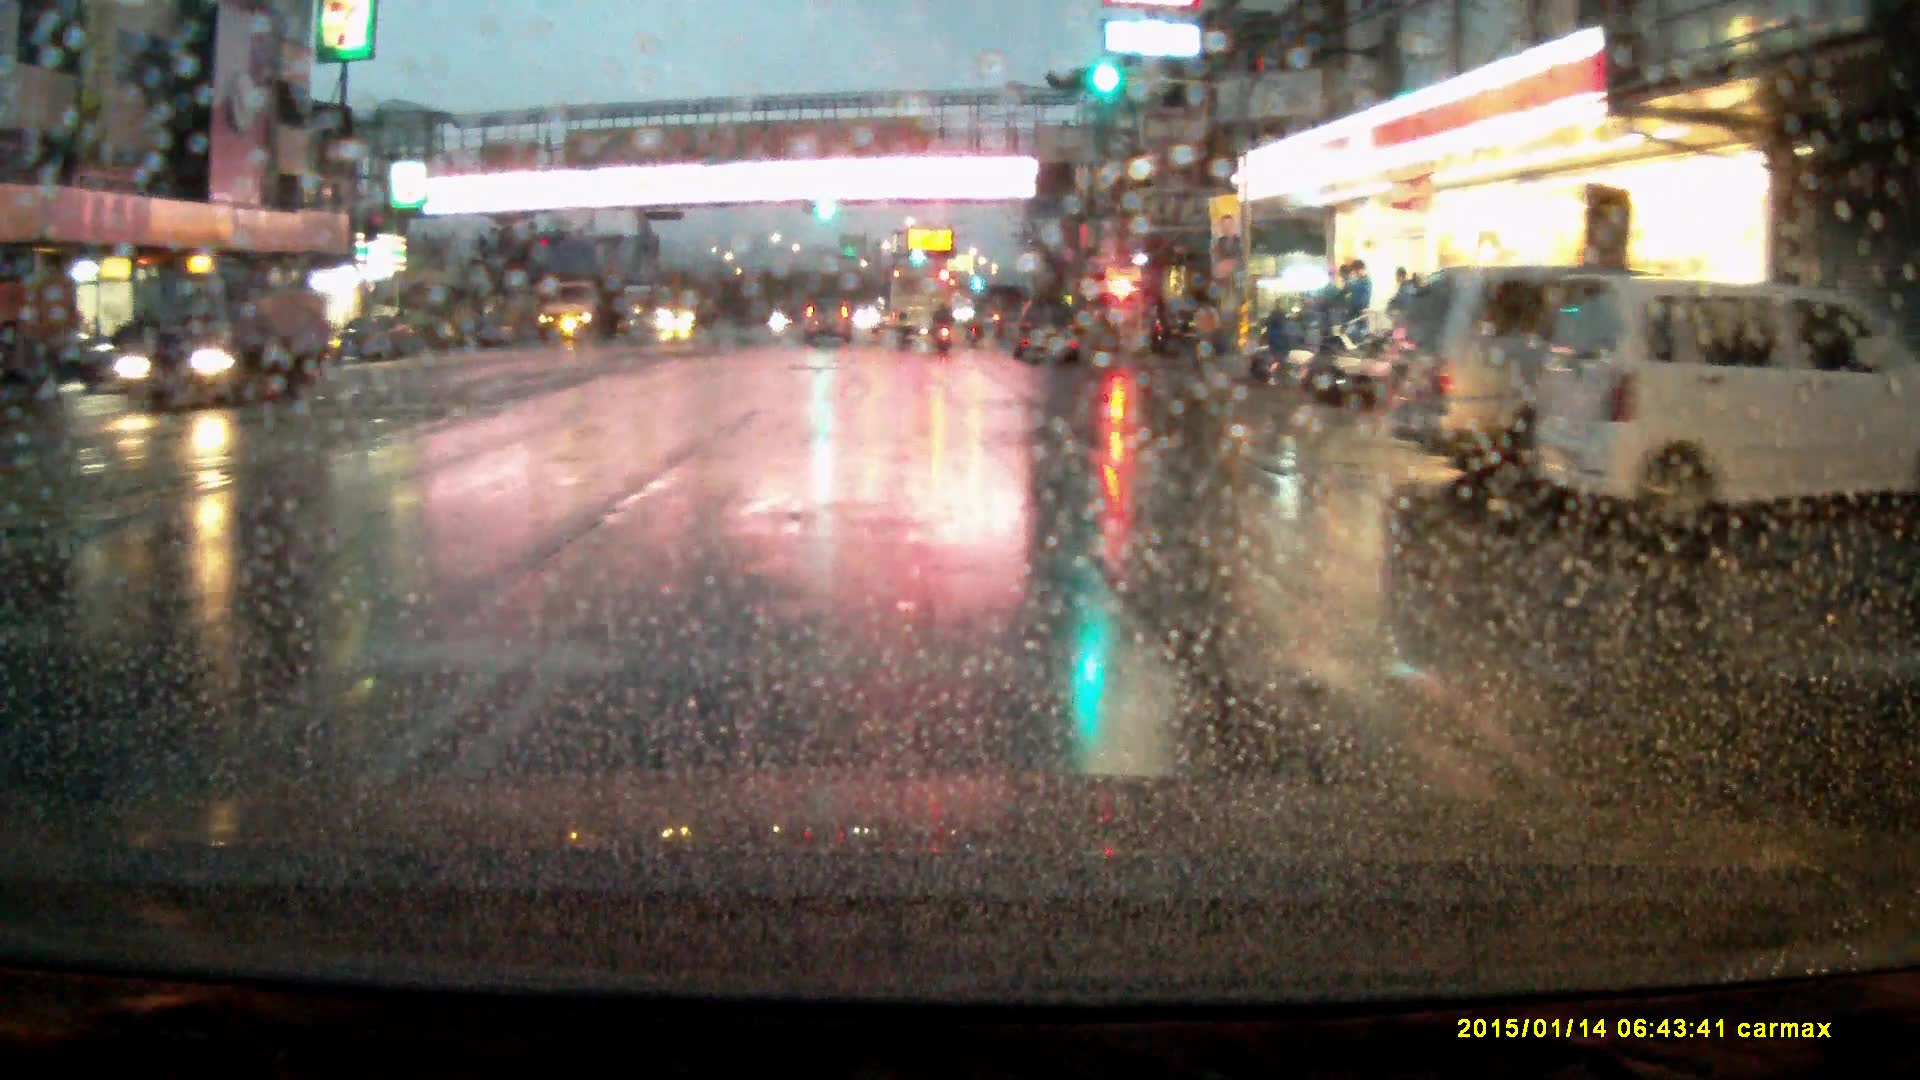rider: (935, 301, 958, 354)
vehicle: (1537, 271, 1895, 541), (1384, 263, 1735, 491), (94, 261, 321, 417), (1012, 290, 1082, 364), (891, 265, 956, 343), (541, 281, 620, 343), (1144, 296, 1224, 355), (664, 280, 721, 330), (800, 297, 855, 347)
